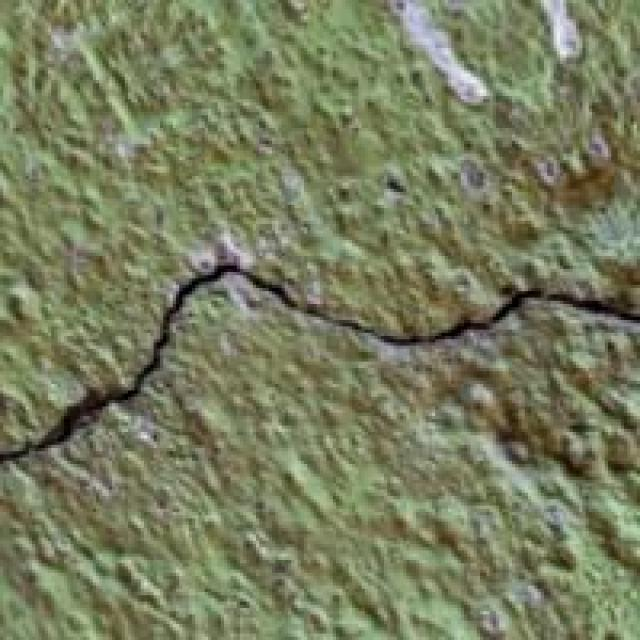crack: (0, 246, 640, 476)
